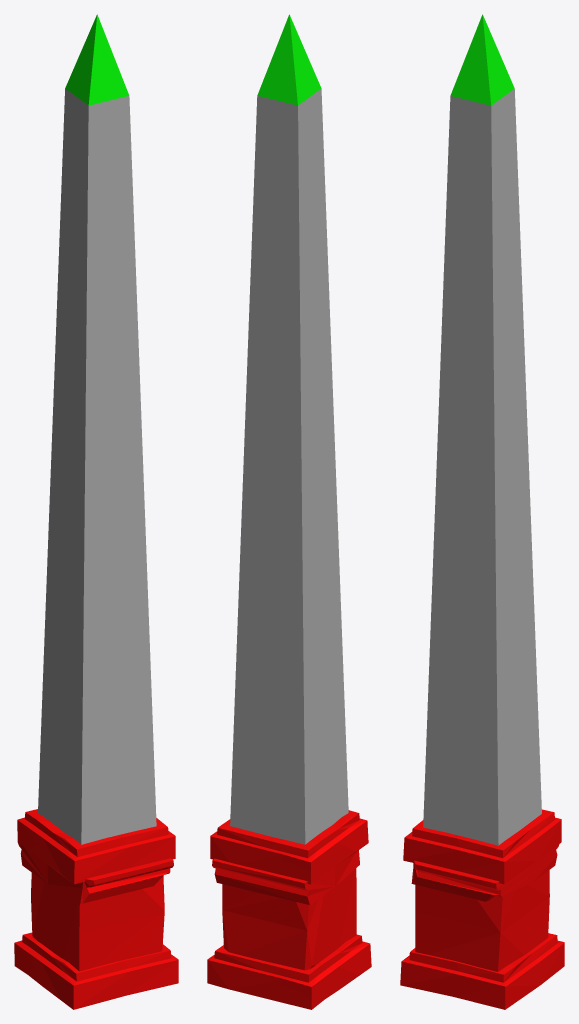
Rendered from egypt_obelisk.glb.
3 views of the same model, side by side, from view 1: azimuth 30°, elevation 25°; view 2: azimuth 150°, elevation 25°; view 3: azimuth 330°, elevation 25° (orthographic).
Parts seen in each view (by area): view 1: PillarObelisk01; view 2: PillarObelisk01; view 3: PillarObelisk01.
Boxes of the visible parts, <box> form: PillarObelisk01: <box>14,14,178,1009</box>; PillarObelisk01: <box>207,14,371,1009</box>; PillarObelisk01: <box>400,14,564,1009</box>.
Bounding box in the file's own units: 0.9795 × 8.5 × 1.02.
